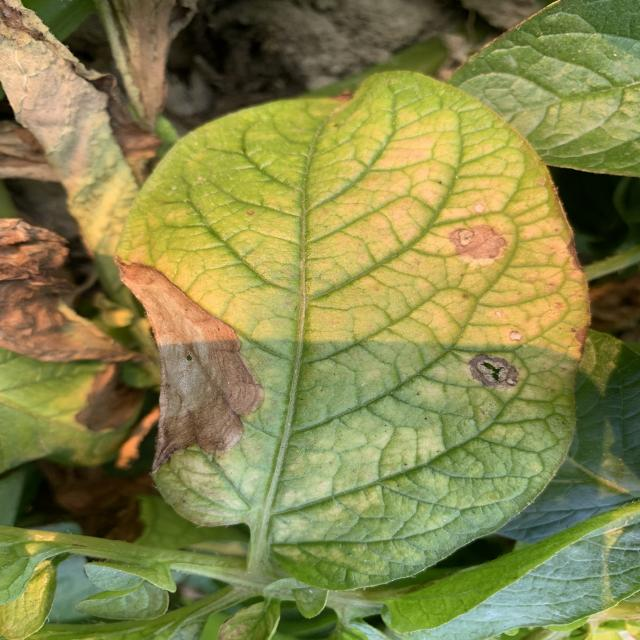lateblight: (117, 260, 263, 470), (448, 225, 507, 260), (468, 354, 518, 388)
